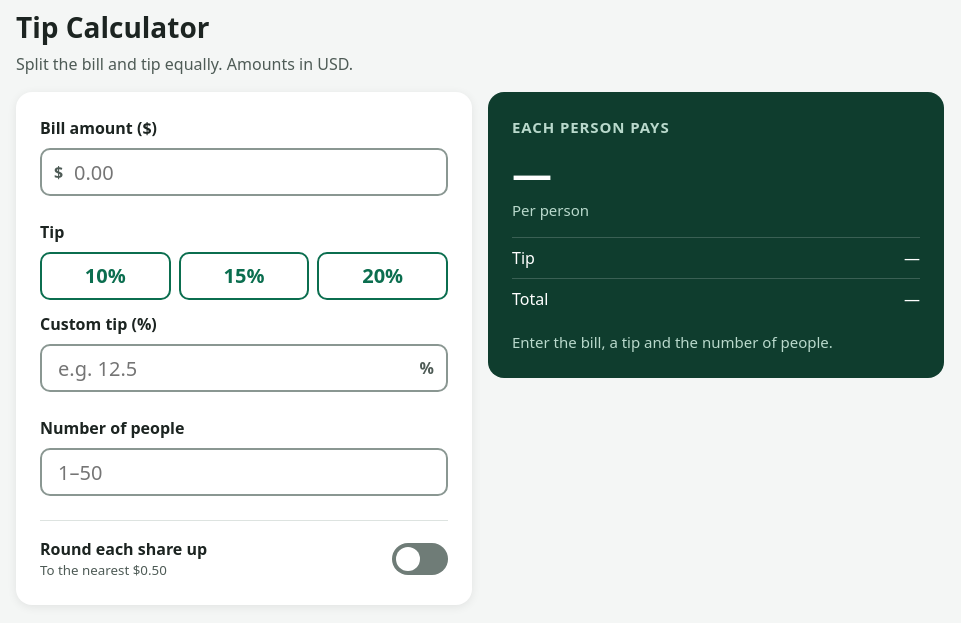
it: S2: Choose the tip percentage › tapping 15% marks it selected for screen readers and the tip uses 15%
This screenshot has width=961, height=623.
Type "100" into the field labelled "Bill amount ($)". click: (244, 172)
box: [40, 148, 448, 196]
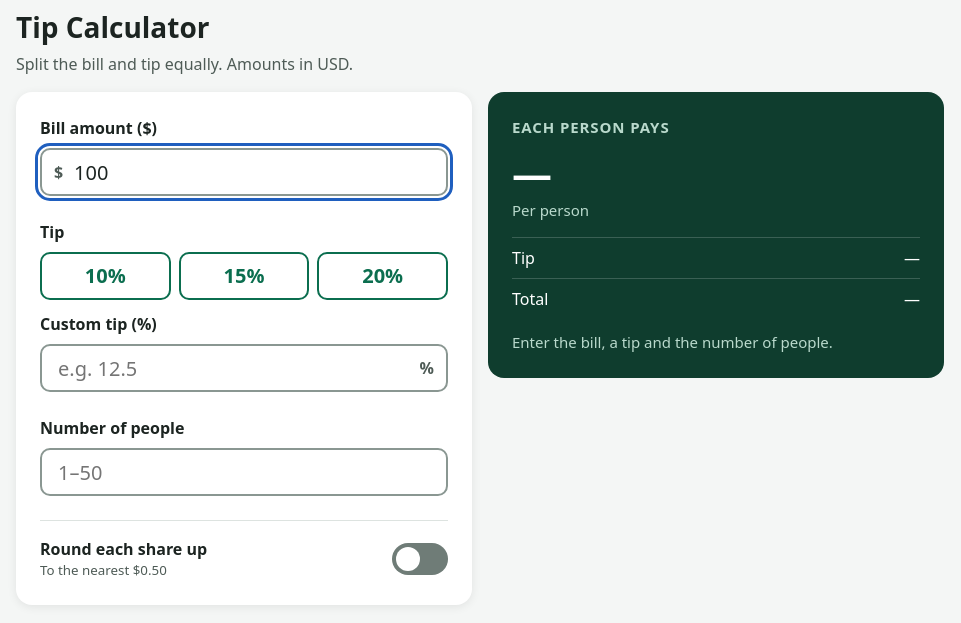
Type "4" into the field labelled "Number of people". click: (244, 472)
box: [40, 448, 448, 496]
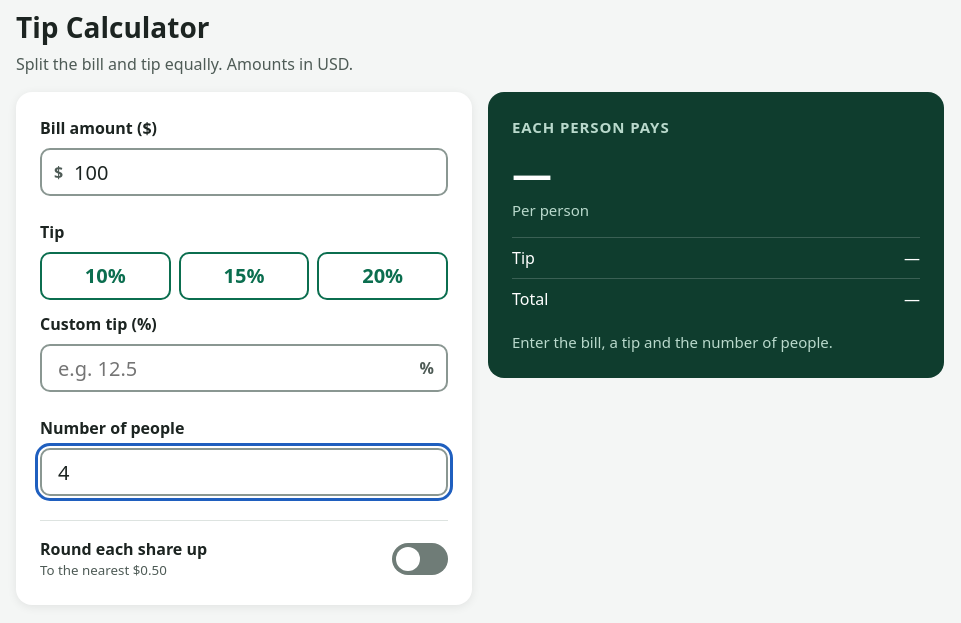
Click the button "15%". click: (244, 276)
box: [179, 252, 309, 300]
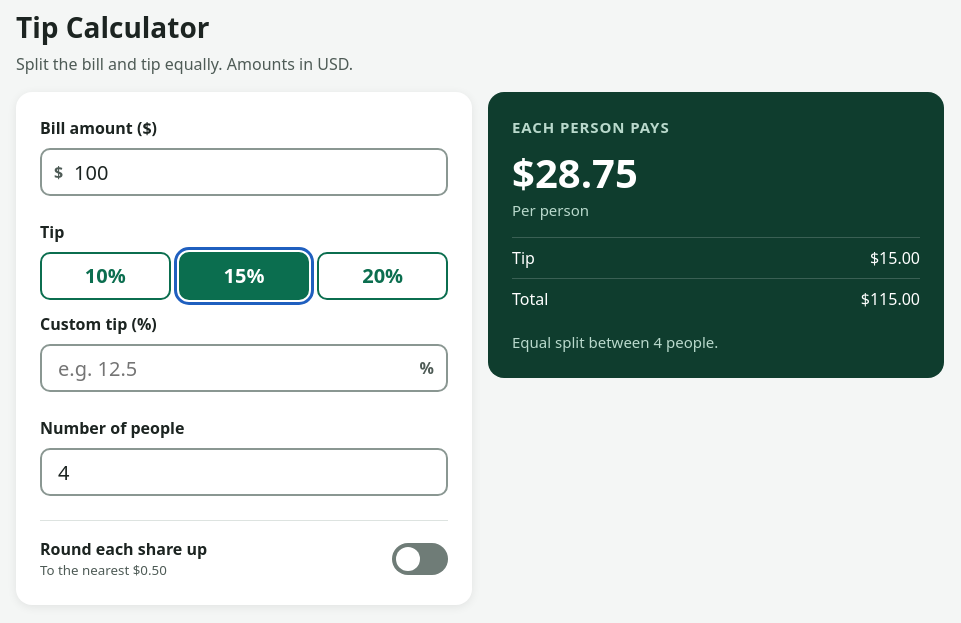
Expected: the button "15%" is pressed, [179, 252, 309, 300]
